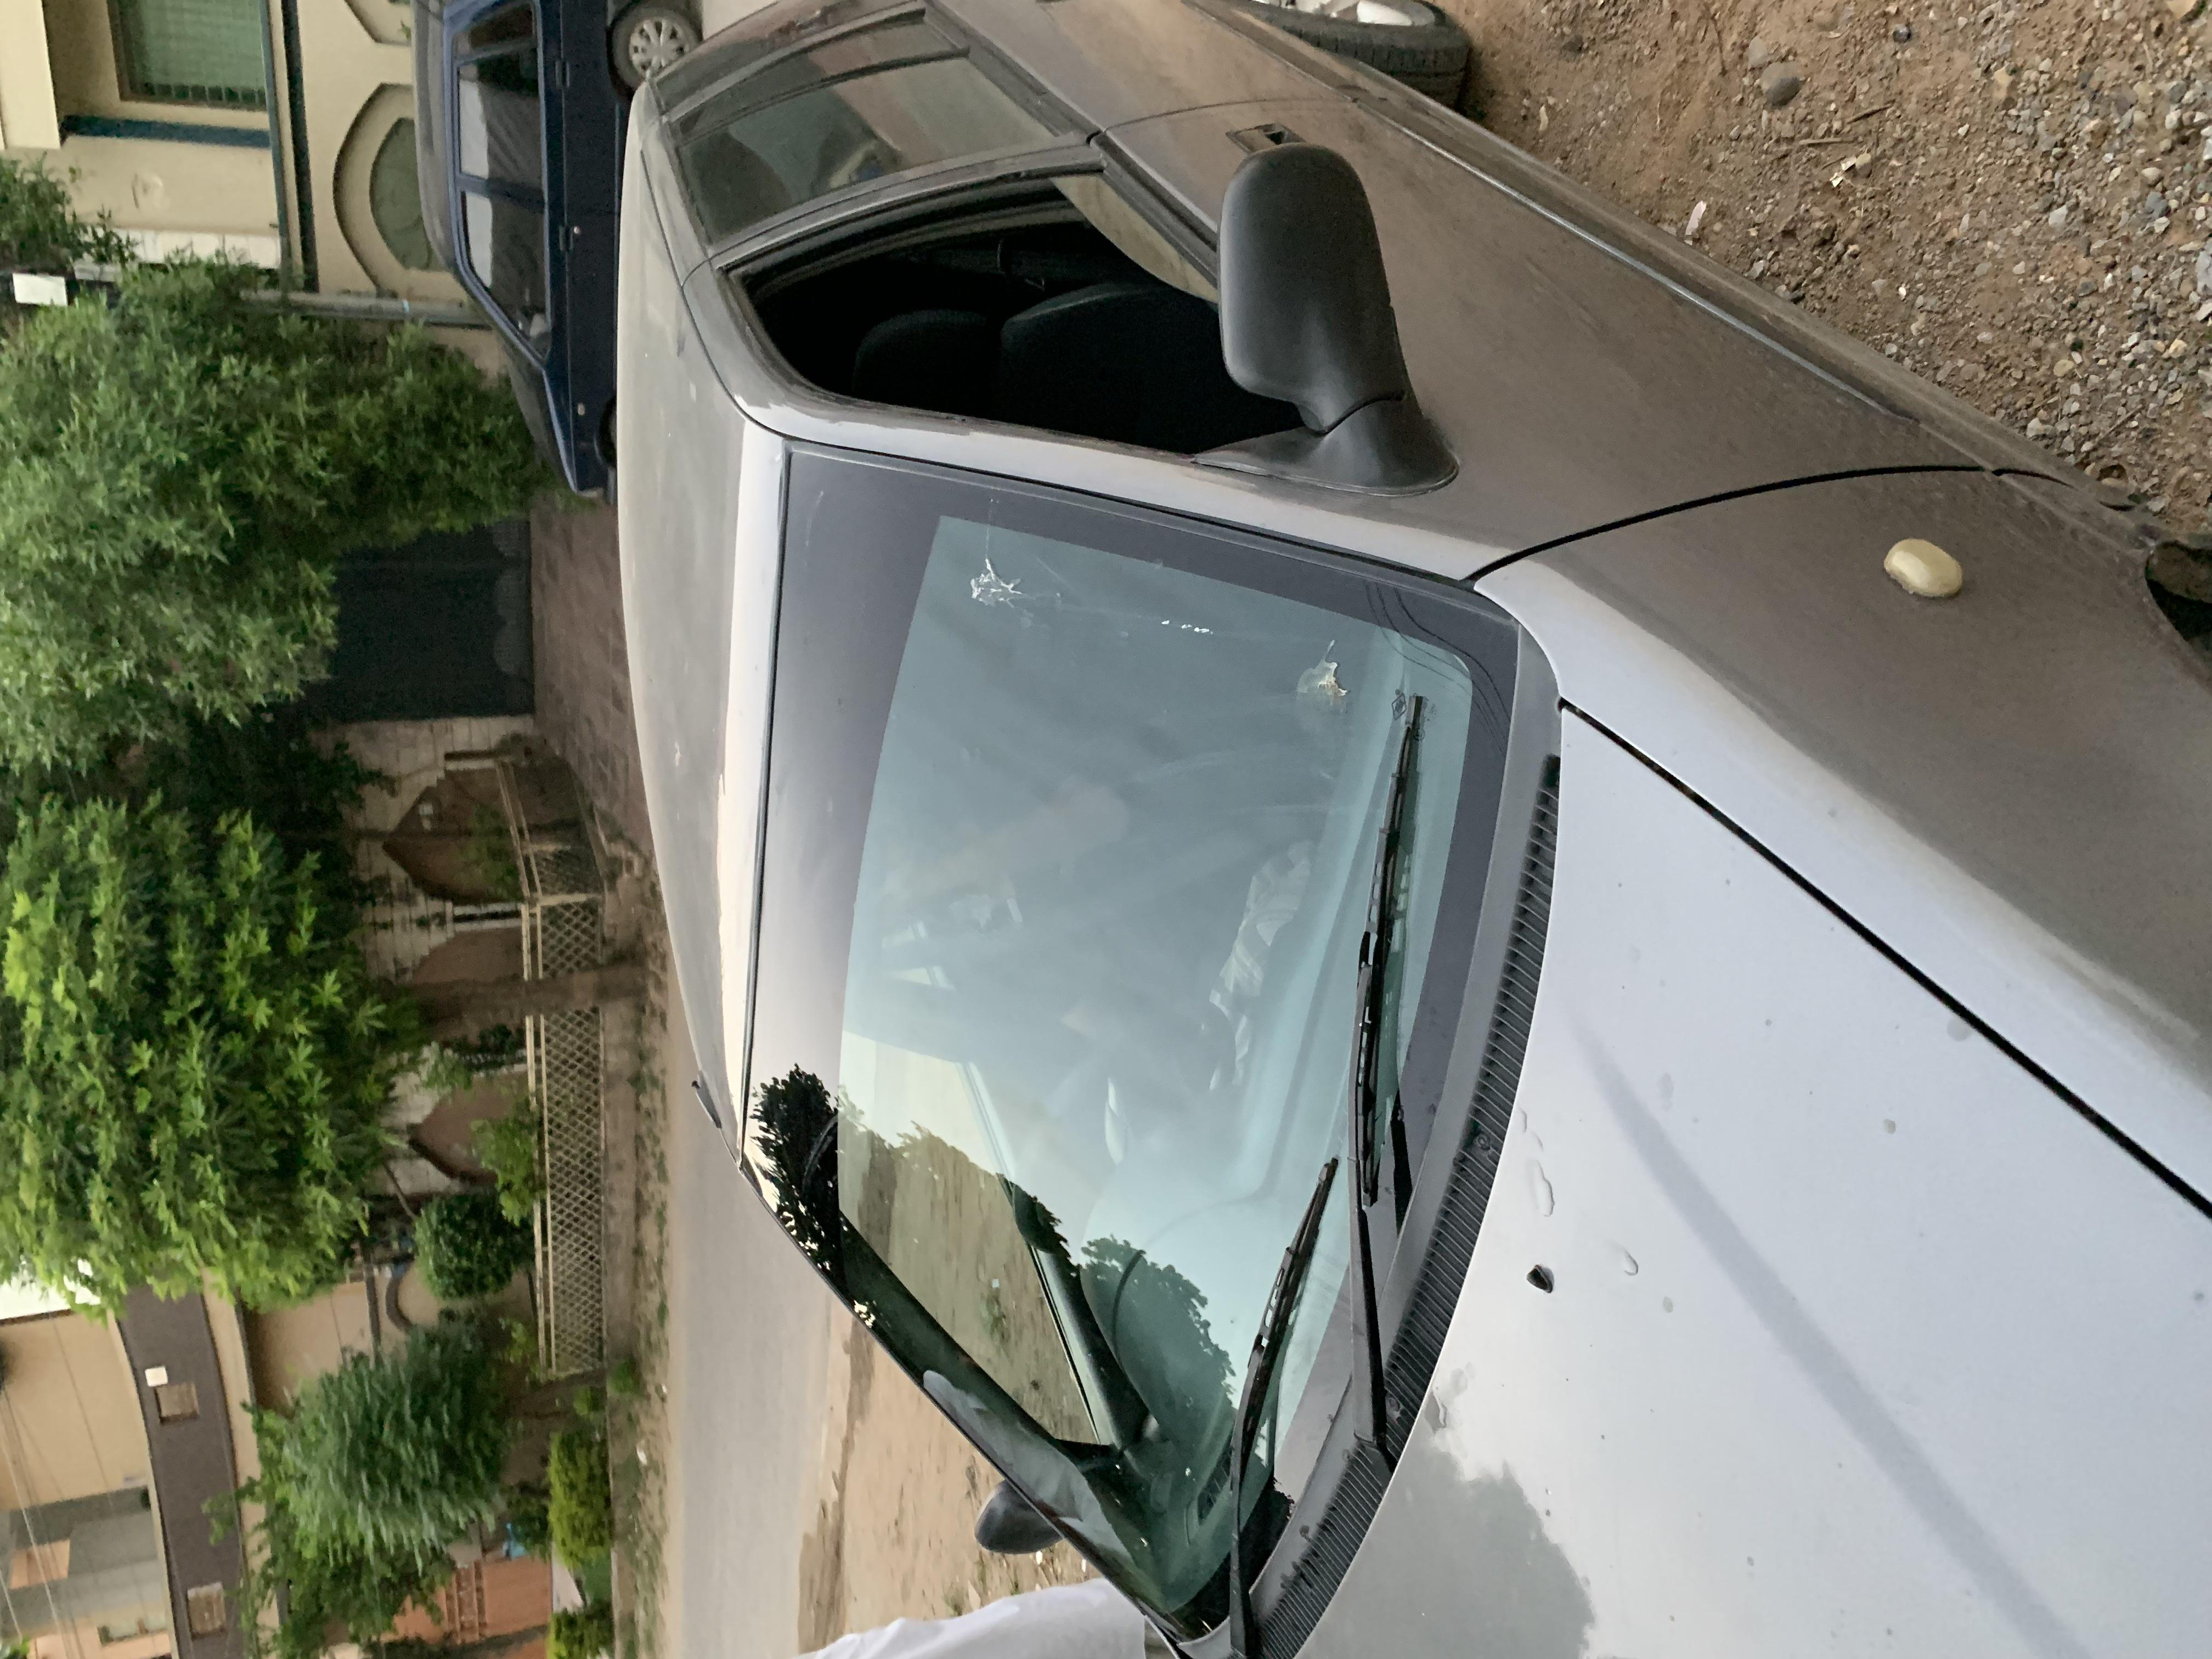windshield: (0, 547, 1625, 1161)
